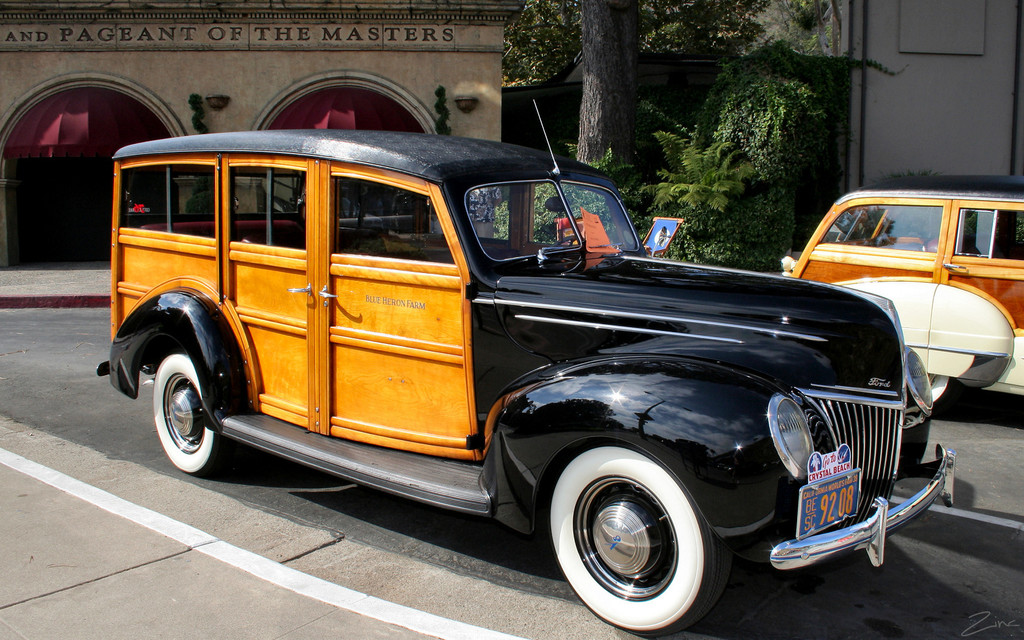Car: (94, 99, 958, 634), (780, 186, 1023, 399), (897, 174, 1023, 193)
